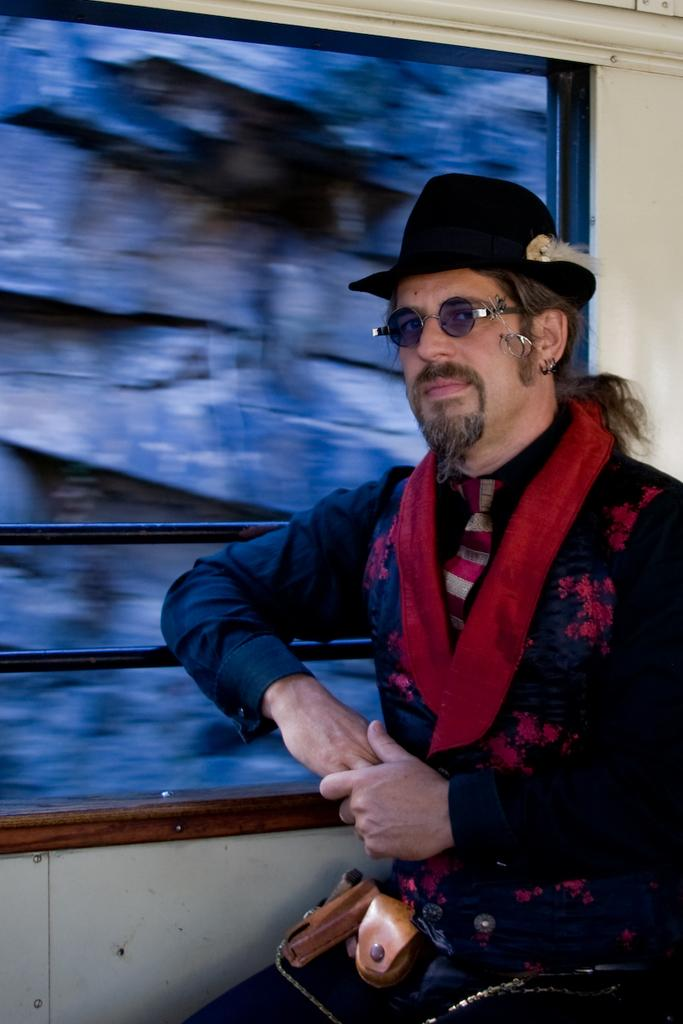Hat: (350, 176, 596, 312)
